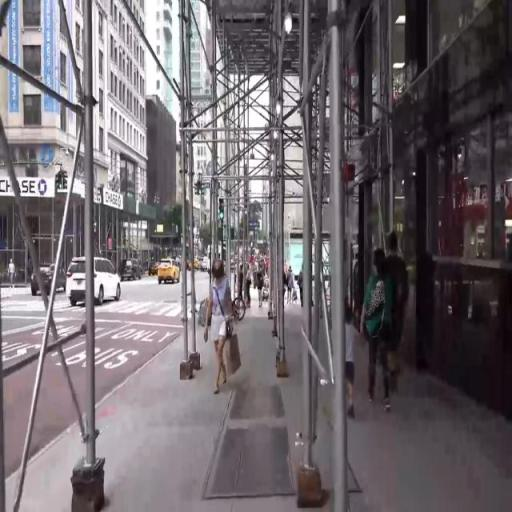person: (366, 254, 395, 428), (209, 257, 236, 397), (388, 227, 412, 377), (341, 303, 359, 427), (248, 265, 259, 315), (257, 269, 267, 314), (241, 266, 248, 315), (288, 267, 296, 307), (10, 259, 17, 290), (300, 256, 304, 305)
